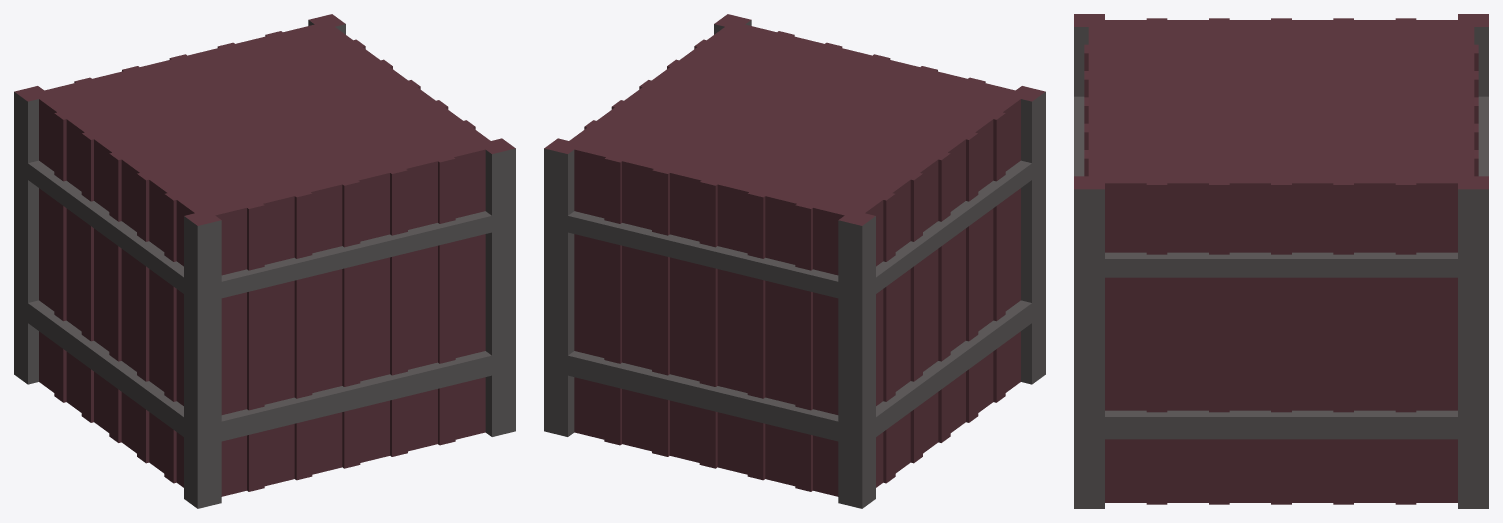
File: skyscraper-part-middle.fbx
3 views of the same model, side by side, from view 1: azimuth 30°, elevation 25°; view 2: azimuth 150°, elevation 25°; view 3: azimuth 270°, elevation 25° (orthographic). The views are drawn at different scales.
Parts seen in each view (by area): view 1: skyscraper-part-middle; view 2: skyscraper-part-middle; view 3: skyscraper-part-middle.
Boxes of the visible parts, x1,y1,x2,y2 form: skyscraper-part-middle: (14, 14, 515, 508); skyscraper-part-middle: (544, 14, 1045, 508); skyscraper-part-middle: (1074, 14, 1488, 508).
Size of the model in its own units: 20 by 17 by 20.
